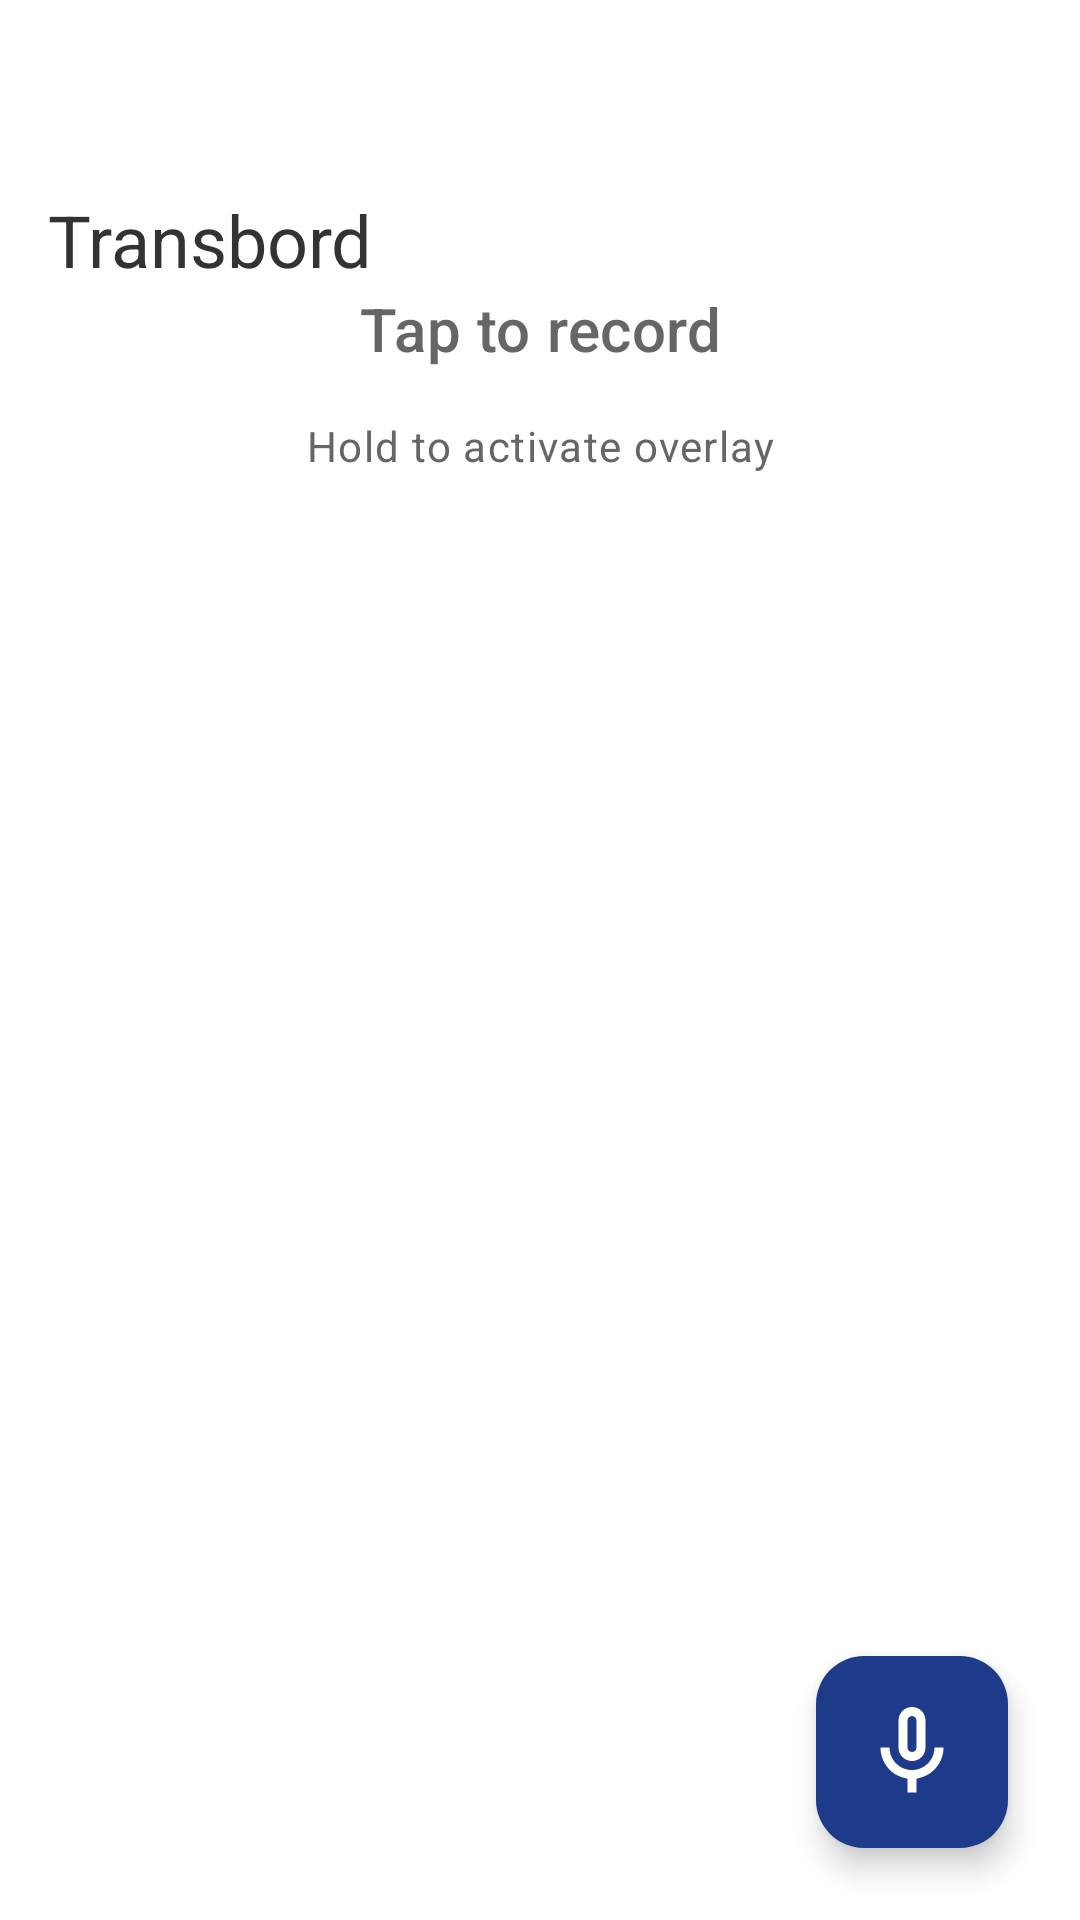

Locate icon controls on the screen. Image size 1080 × 1920, boxes as {"x1": x1, "y1": y1, "x2": x2, "y2": y2}.
Tap to record: {"x1": 816, "y1": 1656, "x2": 1008, "y2": 1848}
